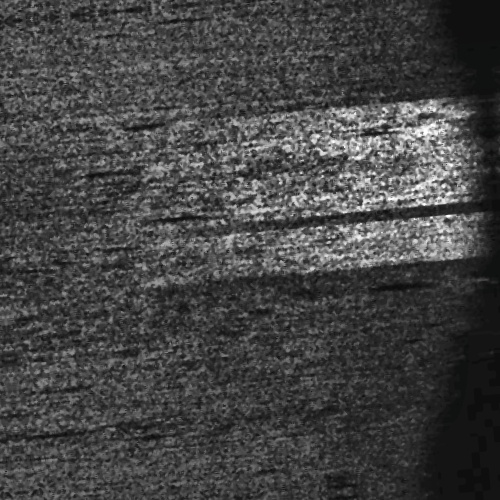object: (222, 206, 263, 211)
shadow: (165, 206, 242, 211)
